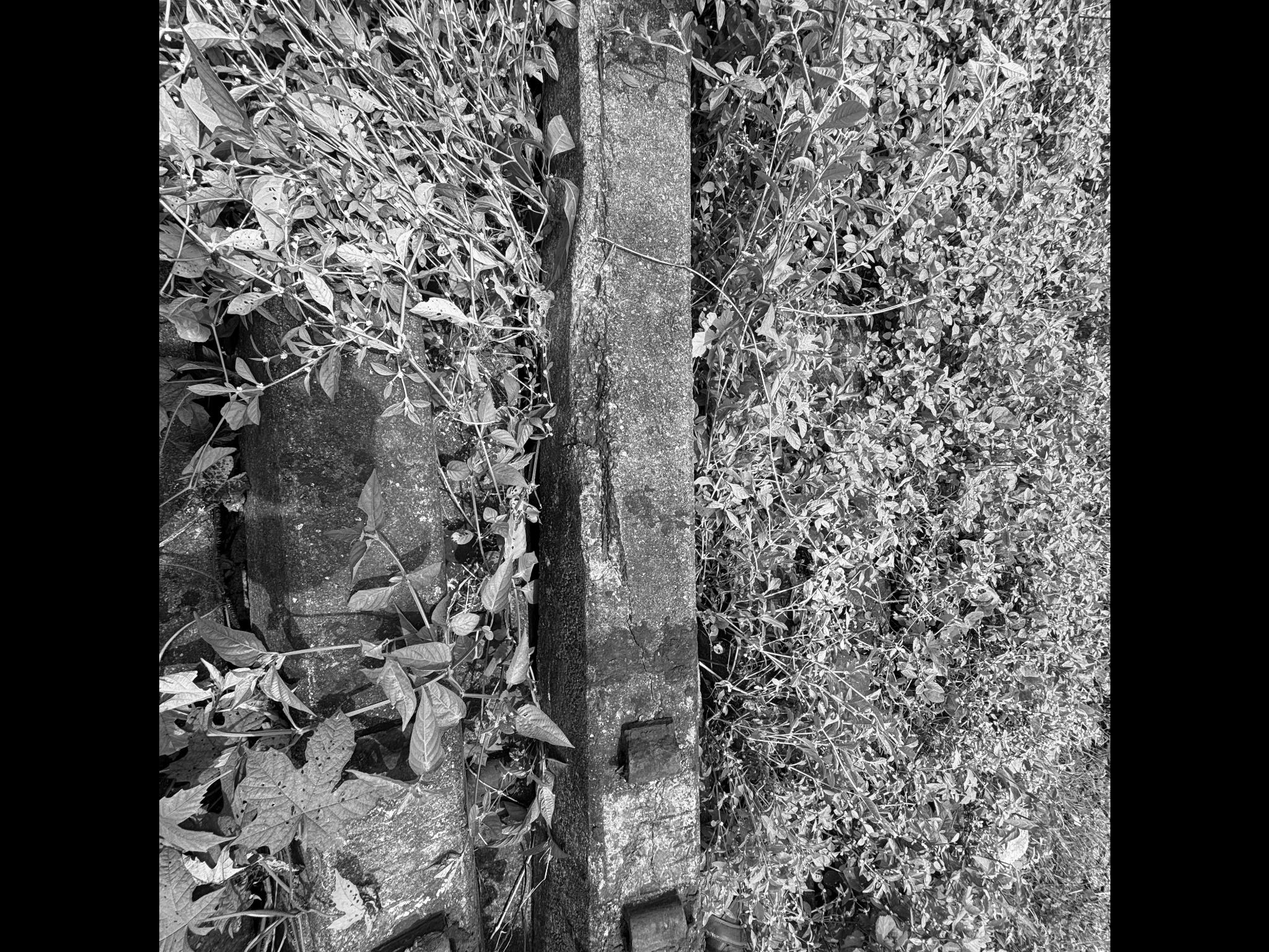cracks in midportion: (576, 0, 675, 718)
cracks under rail seat: (636, 788, 669, 891)
